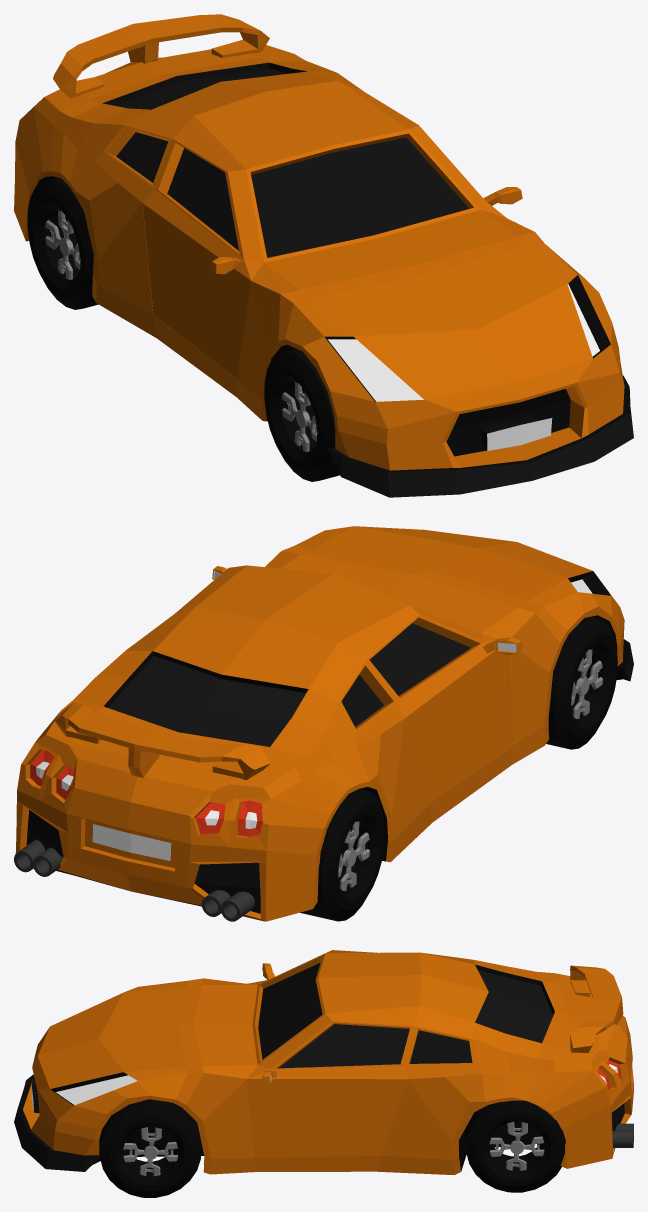
The model's file is GTRModel.fbx.
The picture shows the model from 3 angles, top to bottom: view 1: azimuth 30°, elevation 25°; view 2: azimuth 150°, elevation 25°; view 3: azimuth 270°, elevation 25°; orthographic projection. The views are drawn at different scales.
Visible parts, largest first — view 1: Car, Tire3, Tire4; view 2: Car, Tire3, Tire4; view 3: Car, Tire1, Tire2.
Boxes of the visible parts, <box> form: Car: <box>14,14,633,497</box>; Tire3: <box>264,348,339,481</box>; Tire4: <box>27,177,98,309</box>; Car: <box>14,526,633,921</box>; Tire3: <box>546,617,617,749</box>; Tire4: <box>300,789,384,921</box>; Car: <box>14,950,633,1175</box>; Tire1: <box>99,1099,201,1197</box>; Tire2: <box>464,1100,565,1192</box>.
Size of the model in its own units: 210 by 147 by 483.
